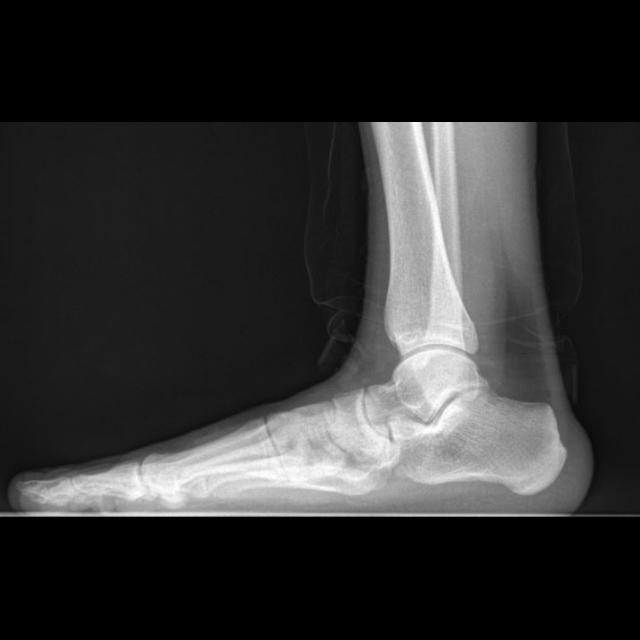a: (393, 387, 566, 495)
b: (330, 389, 387, 472)
c: (141, 417, 290, 497)
